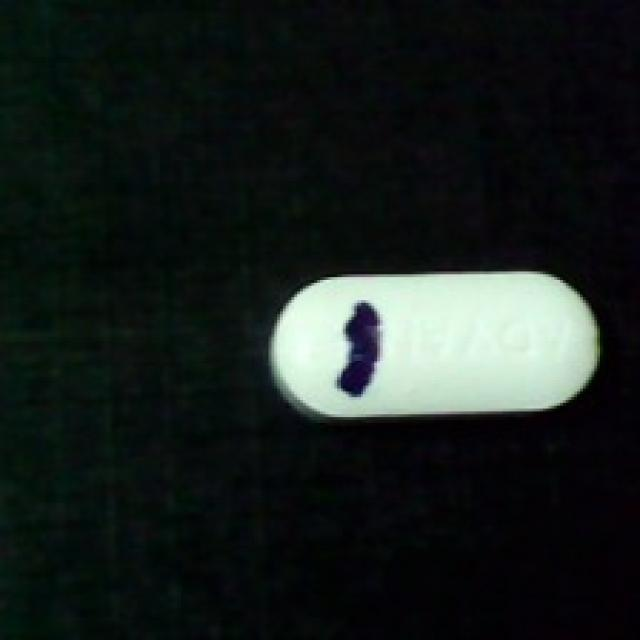defected: (266, 263, 606, 429)
